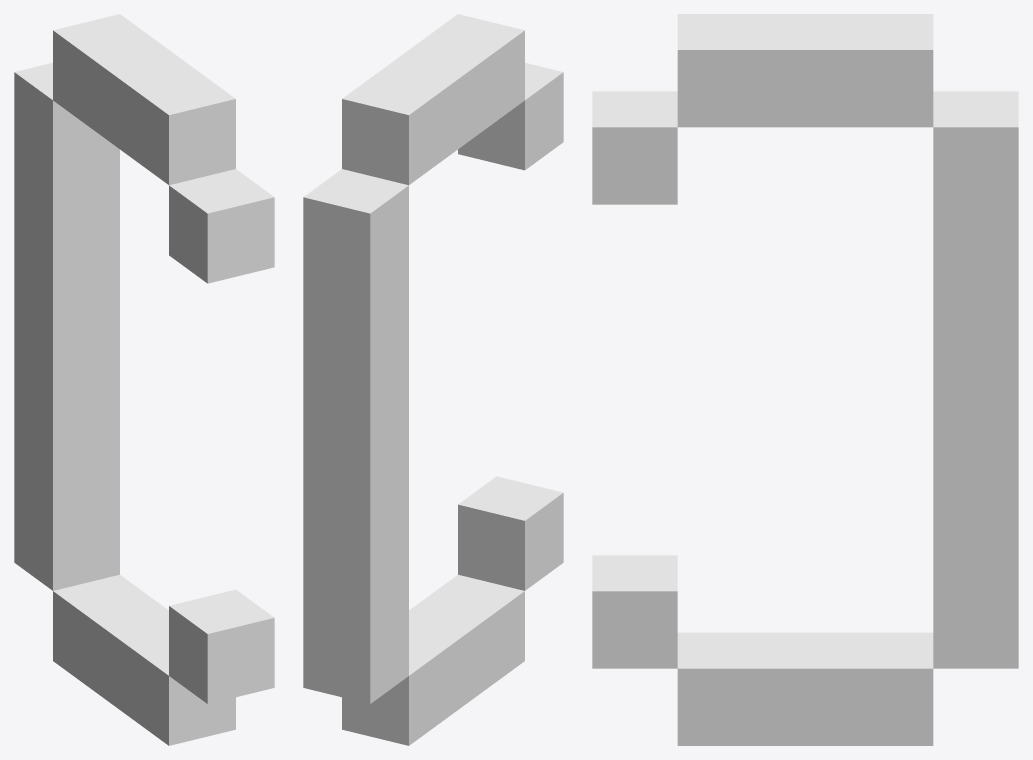
The model's file is let_C.obj.
The picture shows the model from 3 angles, left to right: view 1: azimuth 30°, elevation 25°; view 2: azimuth 150°, elevation 25°; view 3: azimuth 270°, elevation 25°; orthographic projection. The views are drawn at different scales.
Size of the model in its own units: 0.1 by 0.9 by 0.5.
Materials: 1 (1 with a texture image).
